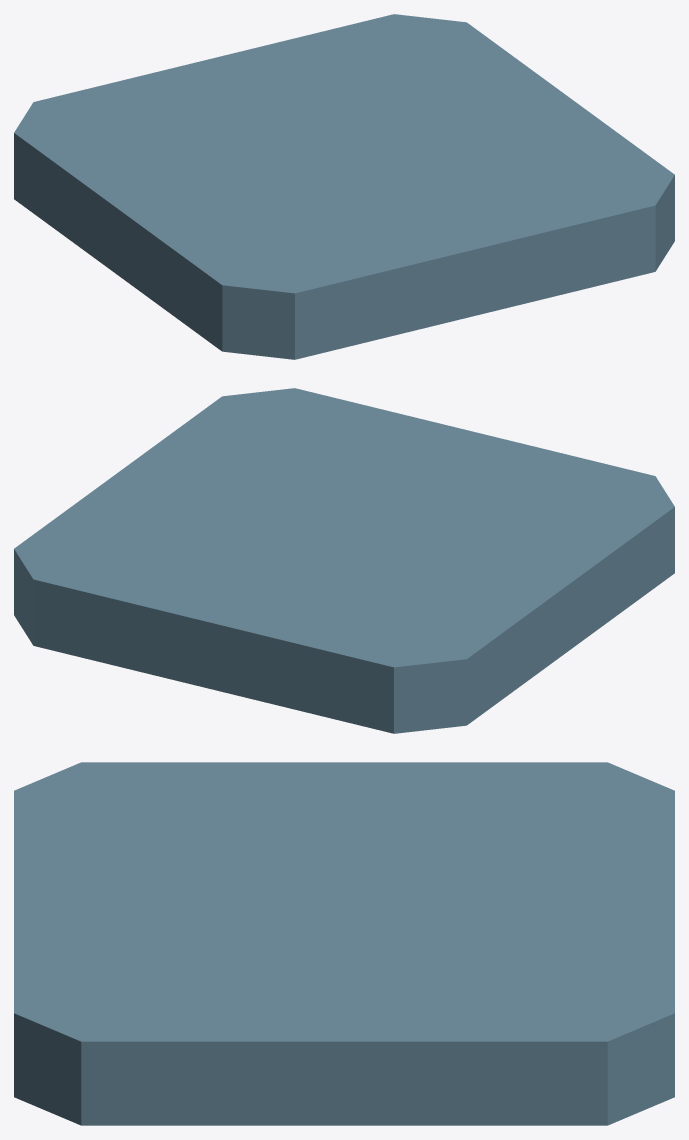
The model's file is GridTile.fbx.
The picture shows the model from 3 angles, top to bottom: view 1: azimuth 30°, elevation 25°; view 2: azimuth 150°, elevation 25°; view 3: azimuth 270°, elevation 25°; orthographic projection. The views are drawn at different scales.
Parts seen in each view (by area): view 1: GridCell; view 2: GridCell; view 3: GridCell.
Boxes of the visible parts, box(x1,y1,x2,y2) form: GridCell: box(14, 14, 674, 359); GridCell: box(14, 388, 674, 733); GridCell: box(14, 762, 674, 1125).
Bounding box in the file's own units: 98.27 × 13.78 × 98.27.
